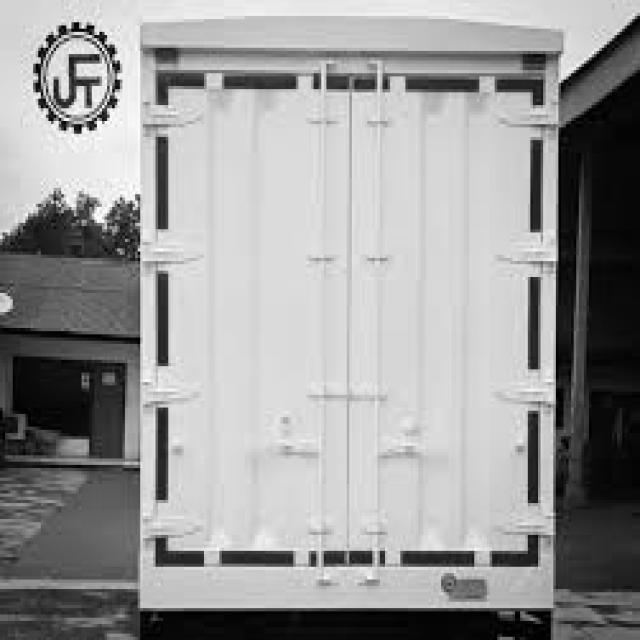truck: (128, 1, 574, 630)
